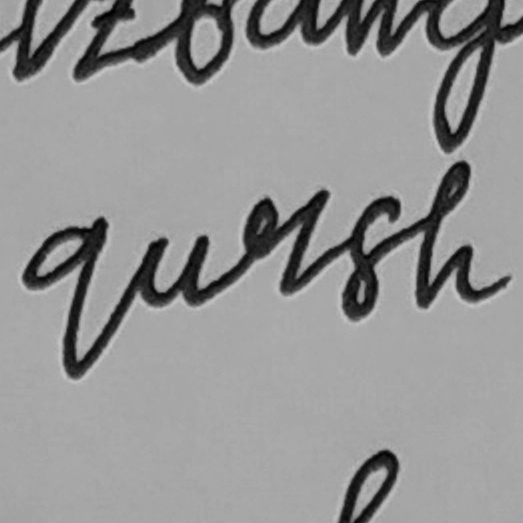h: (410, 155, 514, 312)
q: (17, 209, 118, 383)
r: (226, 183, 333, 304)
s: (333, 191, 407, 323)
u: (131, 223, 219, 321)
